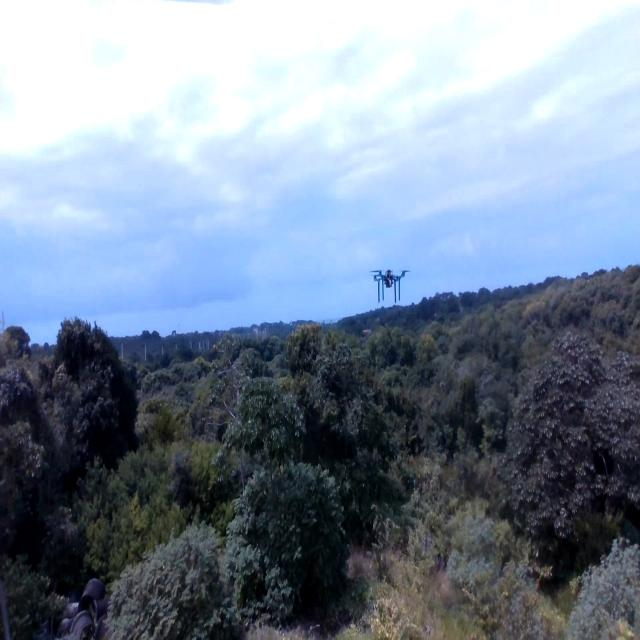-uav-: (367, 258, 411, 312)
